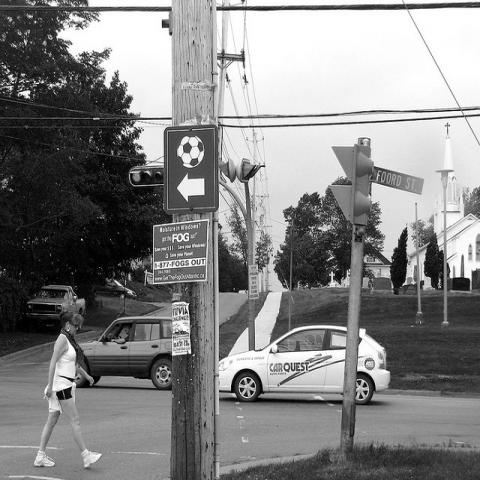car: (218, 327, 390, 406), (75, 316, 174, 390), (93, 276, 137, 299)
truck: (24, 284, 87, 330)
